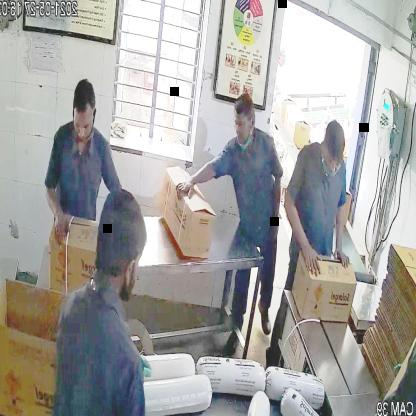no_goggles: (71, 112, 96, 138)
